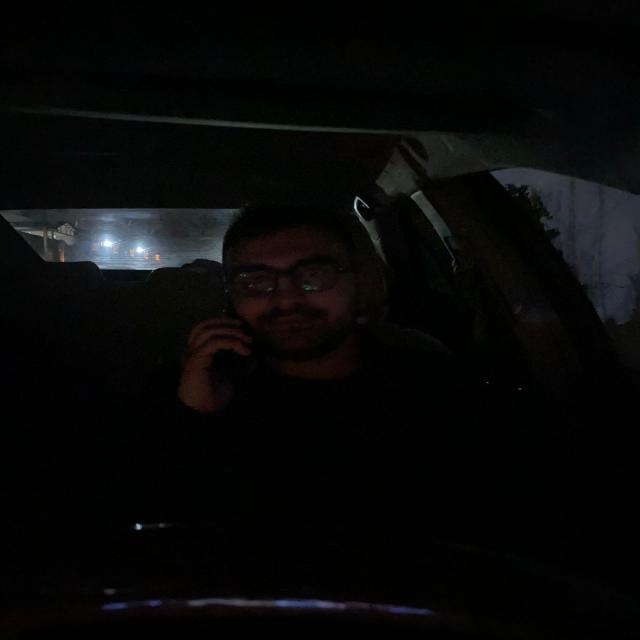mobile: (221, 300, 254, 400)
person: (224, 206, 384, 362)
